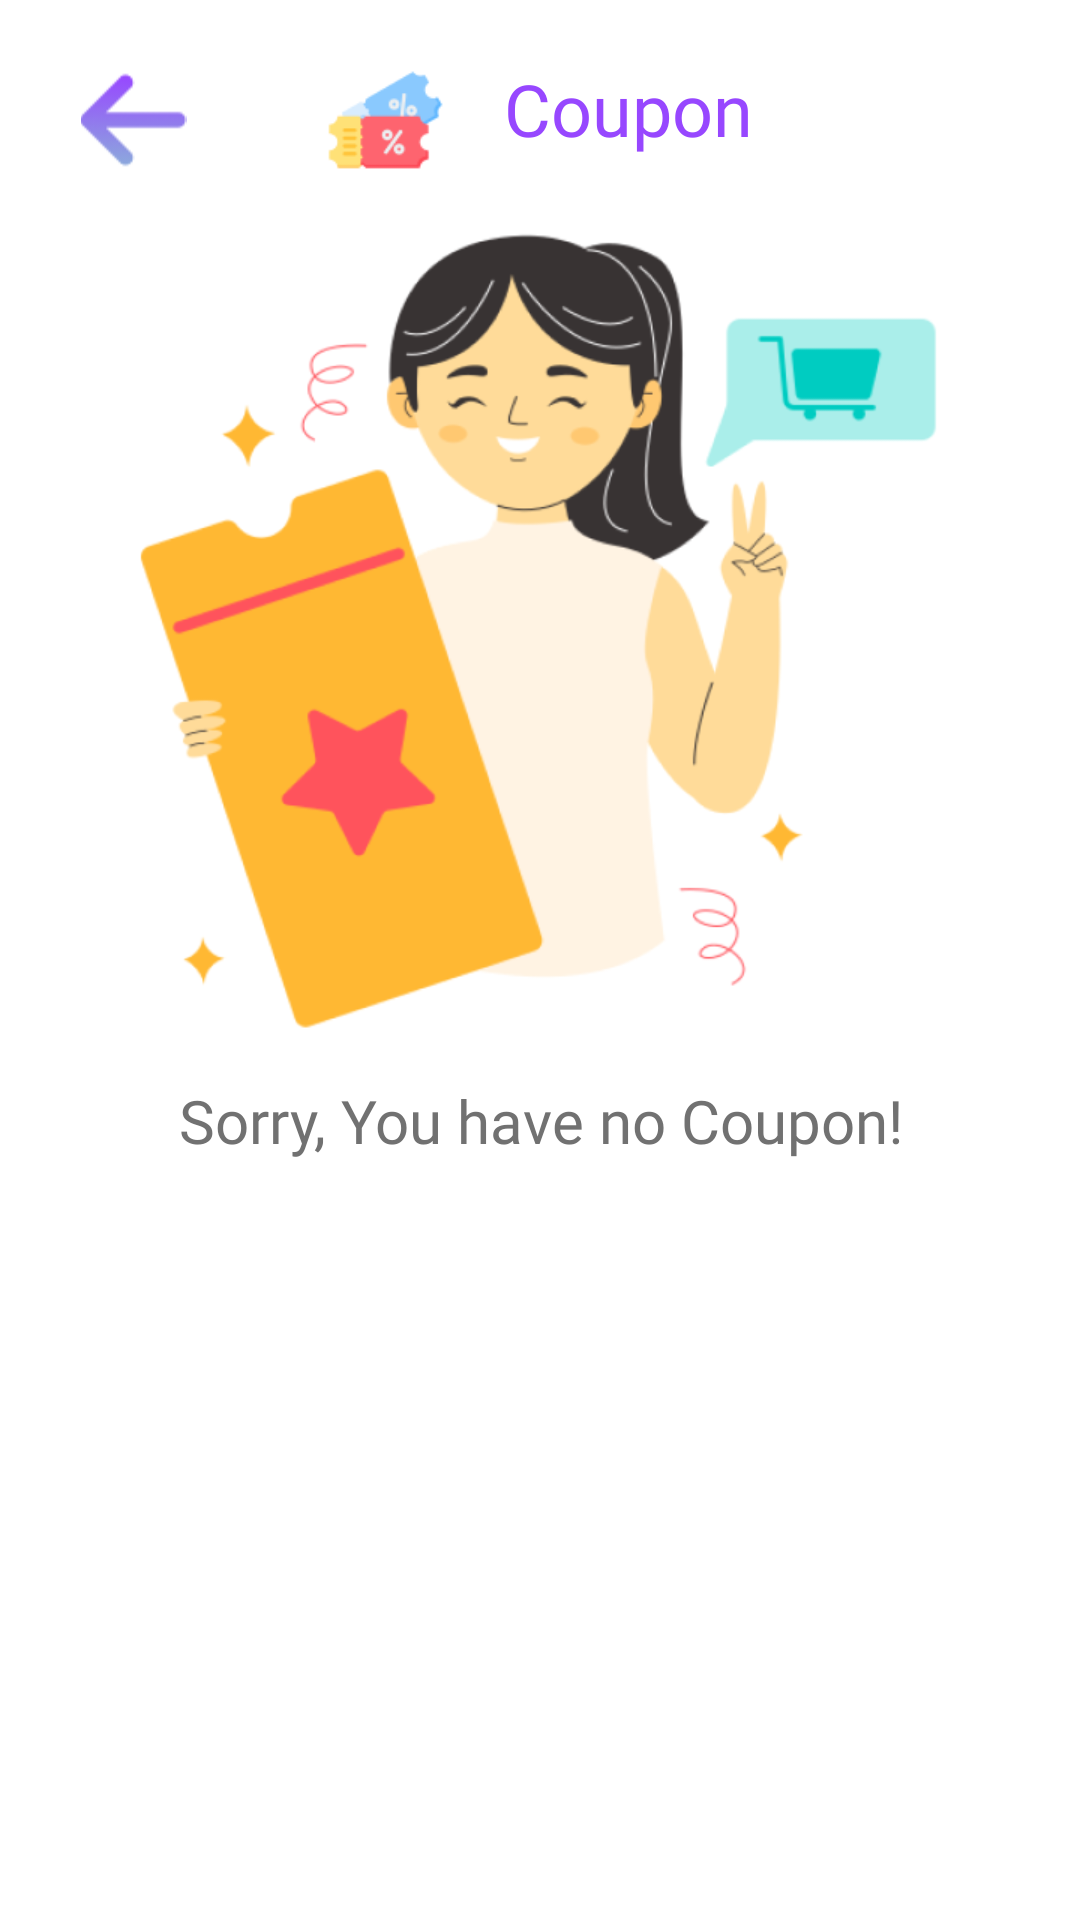

Icon bounding boxes for this 1080×1920 phone screenshot, format bbox=(x1, y1, x2, y2):
arrow: bbox=(81, 74, 187, 166)
